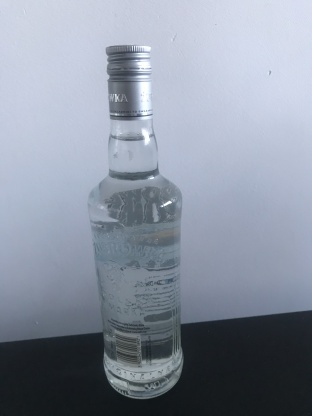nakretka: (103, 42, 155, 121)
